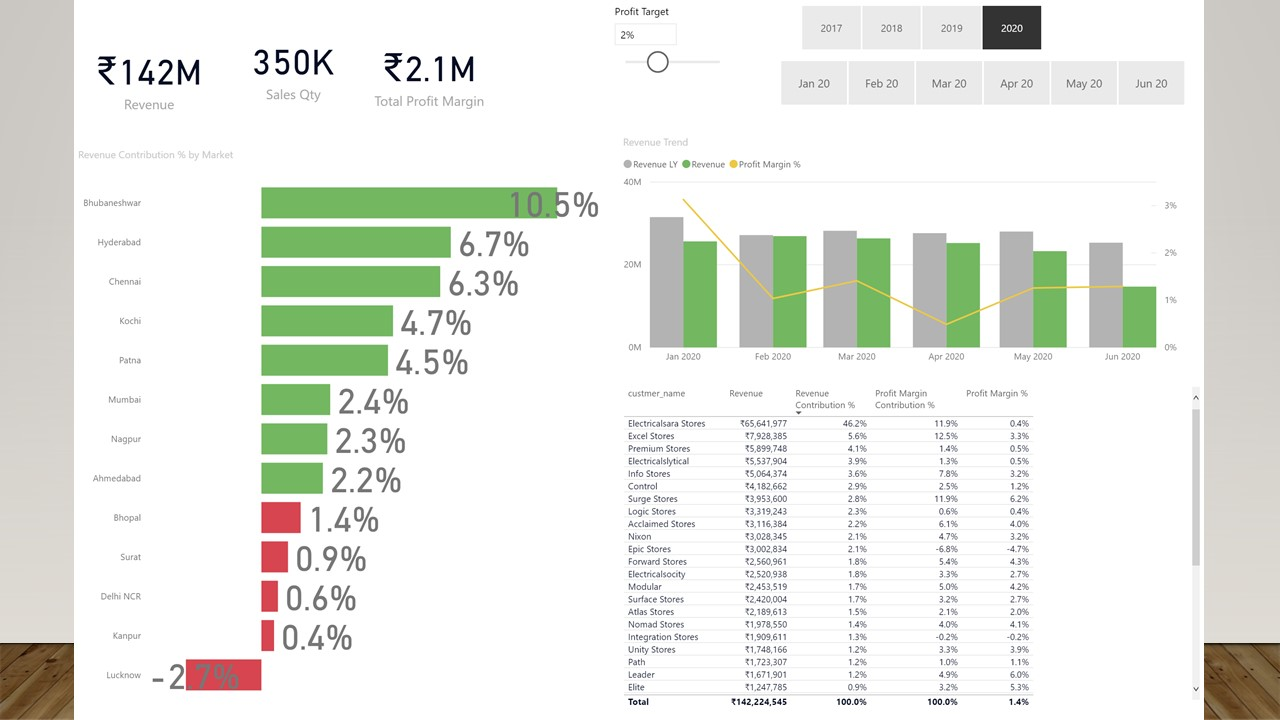

This screenshot's page, from the dashboard's own definition file:
{"tool":"powerbi","page":{"name":"Performance Insights","canvas":[1350,850],"ordinal":2},"visuals":[{"type":"card","fields":{"Values":["BaseMeasures (2).Revenue"]},"box":[0,0,179.6,184.8],"z":0},{"type":"card","fields":{"Values":["BaseMeasures (2).Sales Qty"]},"box":[179.6,0,164.1,161],"z":1000},{"type":"slicer","fields":{"Values":["sales date.year"]},"box":[844.4,0,335.5,66.1],"z":2000},{"type":"slicer","fields":{"Values":["sales date.cy_date"]},"box":[818.6,66.1,531.6,66.1],"z":3000},{"type":"tableEx","title":"Top 5 Customers","fields":{"Values":["sales customers.custmer_name","BaseMeasures (2).Revenue","BaseMeasures (2).Revenue Contribution %","BaseMeasures (2).Profit Margin Contribution %","BaseMeasures (2).Profit Margin %"]},"box":[651.4,457.3,698.8,392.3],"z":4000},{"type":"lineClusteredColumnComboChart","title":"Revenue Trend","fields":{"Category":["sales date.cy_date"],"Y":["BaseMeasures (2).Revenue LY","BaseMeasures (2).Revenue"],"Y2":["BaseMeasures (2).Profit Margin %"]},"box":[651.4,161,672,281.8],"z":5000},{"type":"card","fields":{"Values":["BaseMeasures (2).Total Profit Margin"]},"box":[343.7,0,161,176.5],"z":6000},{"type":"barChart","title":"Revenue Contribution % by Market","fields":{"Y":["BaseMeasures (2).Profit Margin %"],"Category":["sales markets.zone","sales markets.markets_name","sales customers.custmer_name","sales products.product_code"]},"box":[0,176.3,633.4,673],"z":7000},{"type":"slicer","fields":{"Values":["Profit Target.Profit Target"]},"box":[633.4,0,159.7,131.5],"z":8000}]}

Visuals, with their boxes on the page's 1350x850 design canvas (x1, y1, x2, y2). These are canvas units, not pixel positions in the 1280x720 screenshot, which may show the page scaled, cropped or inside an application window:
card - BaseMeasures (2).Revenue: rect(0, 0, 180, 185)
card - BaseMeasures (2).Sales Qty: rect(180, 0, 344, 161)
slicer - sales date.year: rect(844, 0, 1180, 66)
slicer - sales date.cy_date: rect(819, 66, 1350, 132)
"Top 5 Customers" tableEx: rect(651, 457, 1350, 850)
"Revenue Trend" lineClusteredColumnComboChart: rect(651, 161, 1323, 443)
card - BaseMeasures (2).Total Profit Margin: rect(344, 0, 505, 176)
"Revenue Contribution % by Market" barChart: rect(0, 176, 633, 849)
slicer - Profit Target.Profit Target: rect(633, 0, 793, 132)
